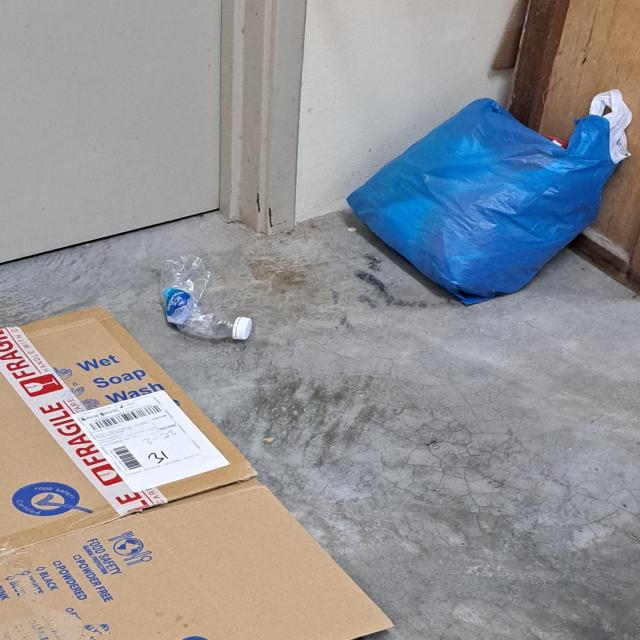cardboard: (0, 305, 393, 640)
plastic bag: (346, 98, 618, 308)
plastic bottle: (159, 254, 235, 339)
plastic bottle cap: (234, 316, 253, 340)
